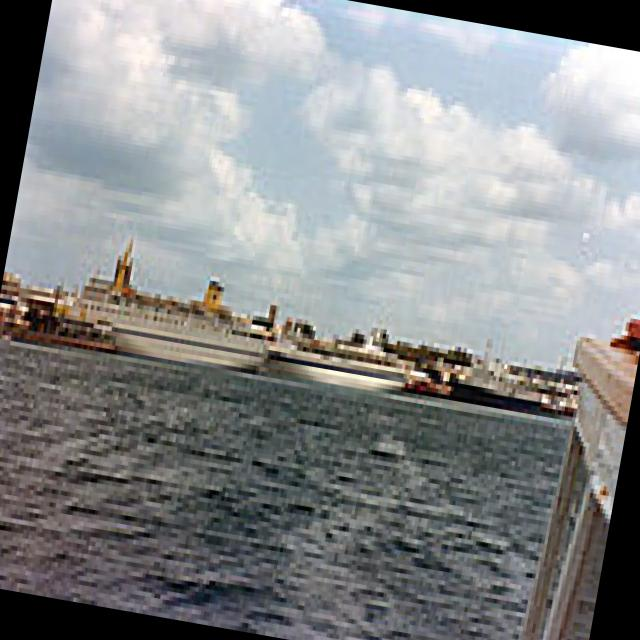boat: (252, 324, 421, 409), (109, 312, 282, 389)
